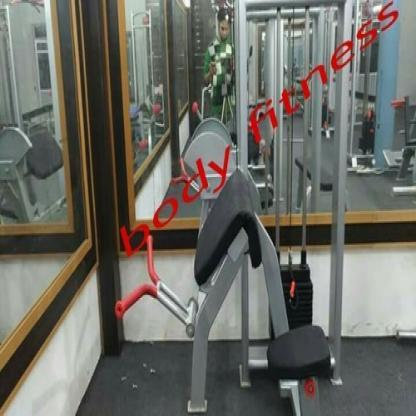arm curl machine: (113, 166, 347, 416)
